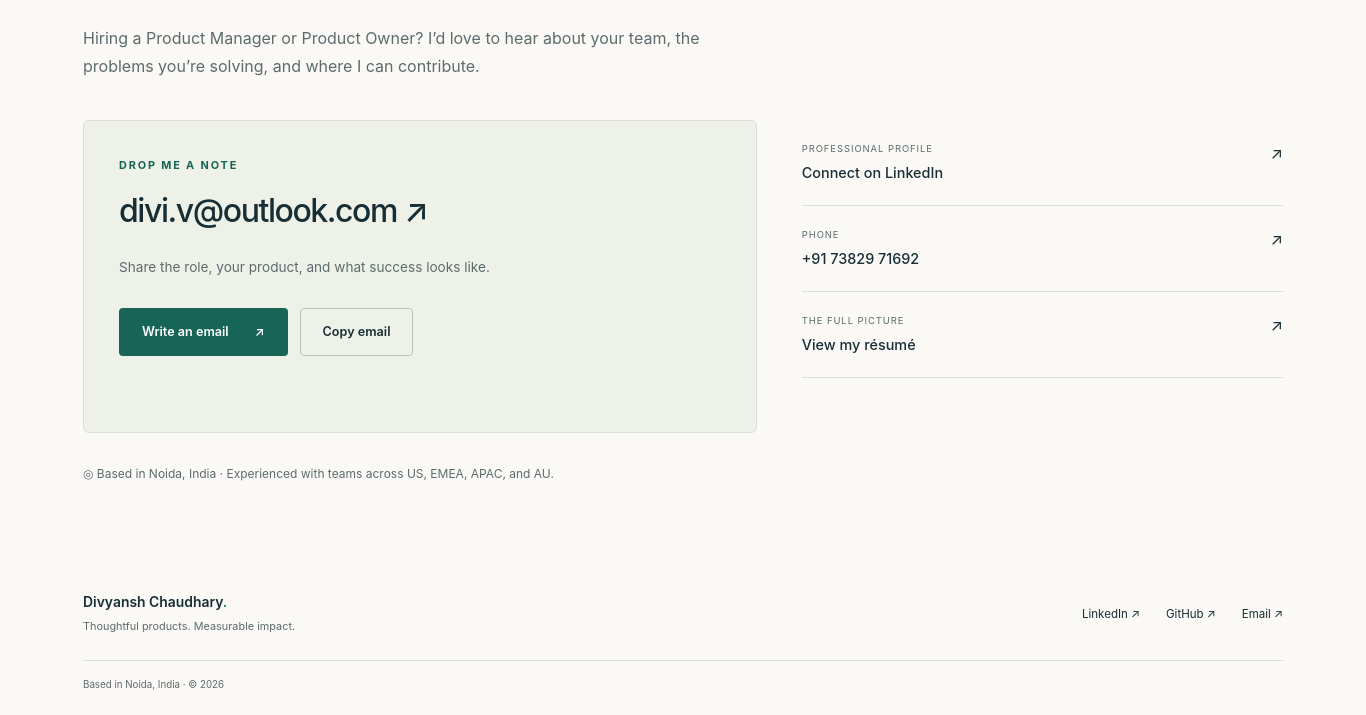
Test case: reports clipboard failure without losing the contact address
The image size is (1366, 715).
(page scrolled)
Click the button "Copy email": (356, 332) [300,308,413,356]
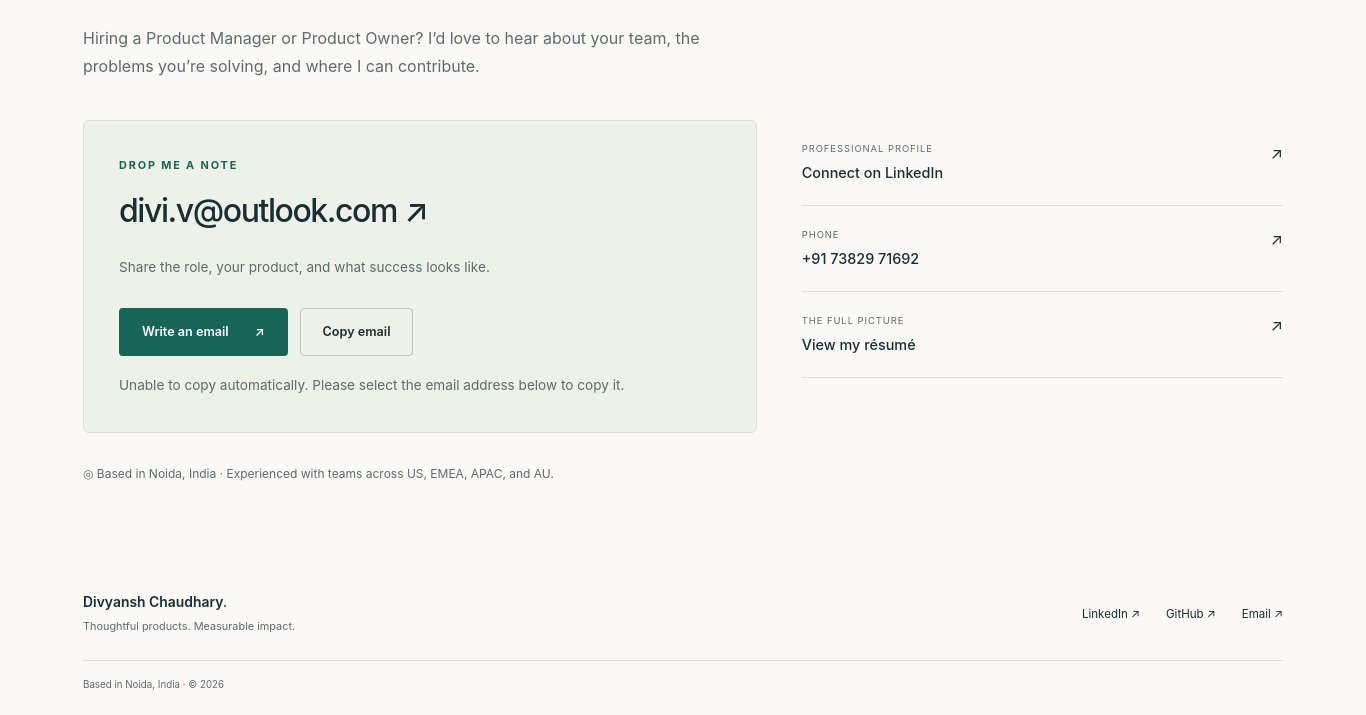
Expected: the link to "mailto:divi.v@outlook.com" is shown, [119,191,428,230]
Expected: the message with class "copy-status" shows "Unable to copy automatically", [119,376,624,392]
